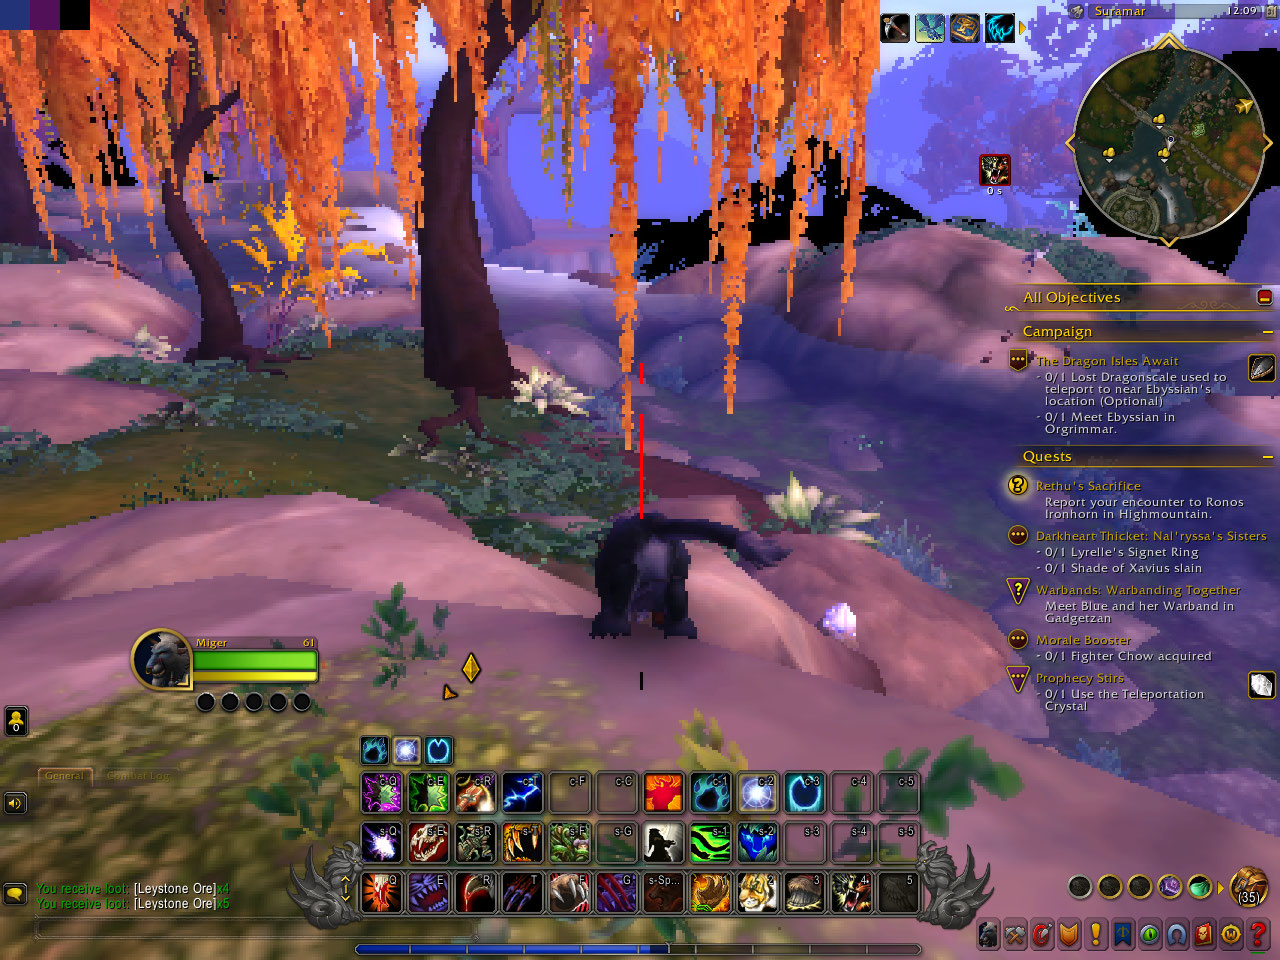ore: (814, 602, 864, 646)
